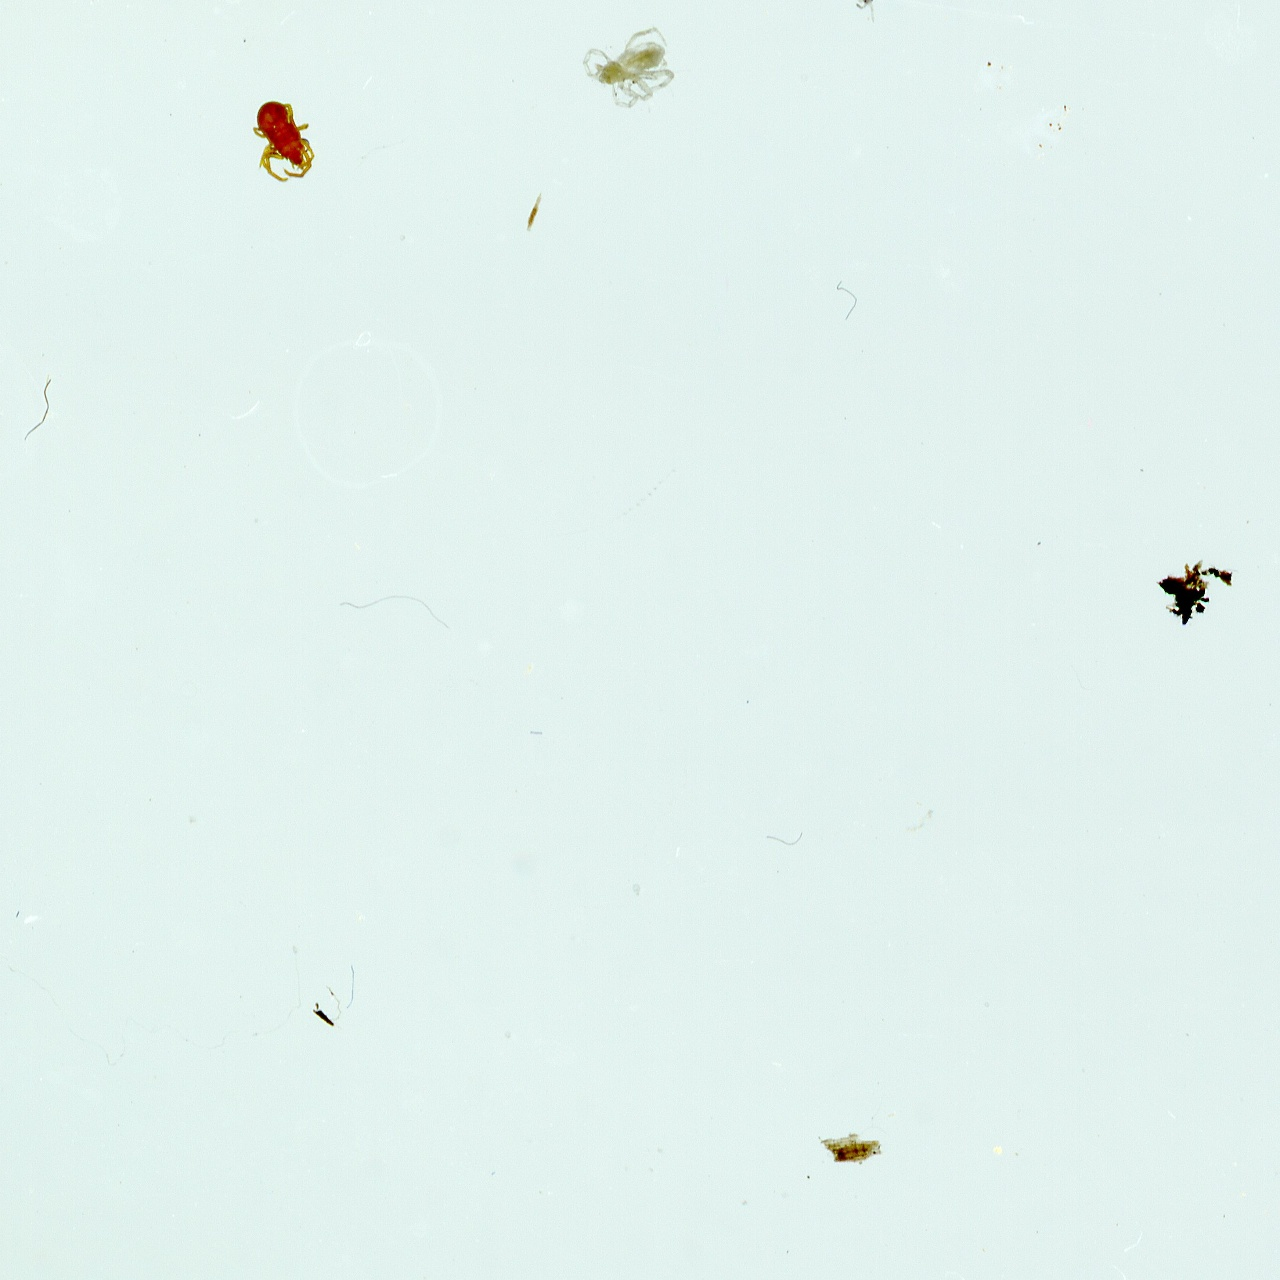arthropod: (580, 21, 681, 113), (247, 97, 319, 184), (837, 0, 879, 27)
